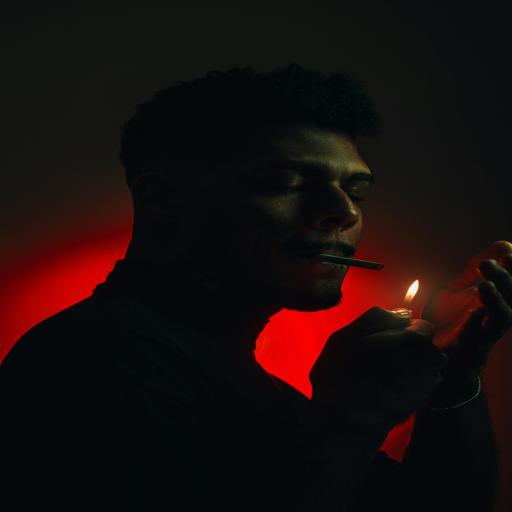terdeteksi merokok: (262, 155, 444, 338)
